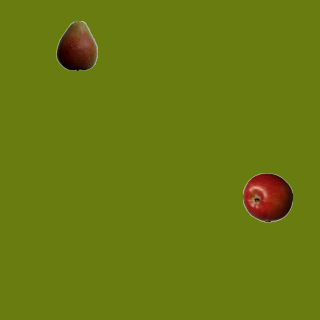Apple Braeburn: (242, 172, 292, 222)
Pear Forelle: (51, 20, 101, 70)
